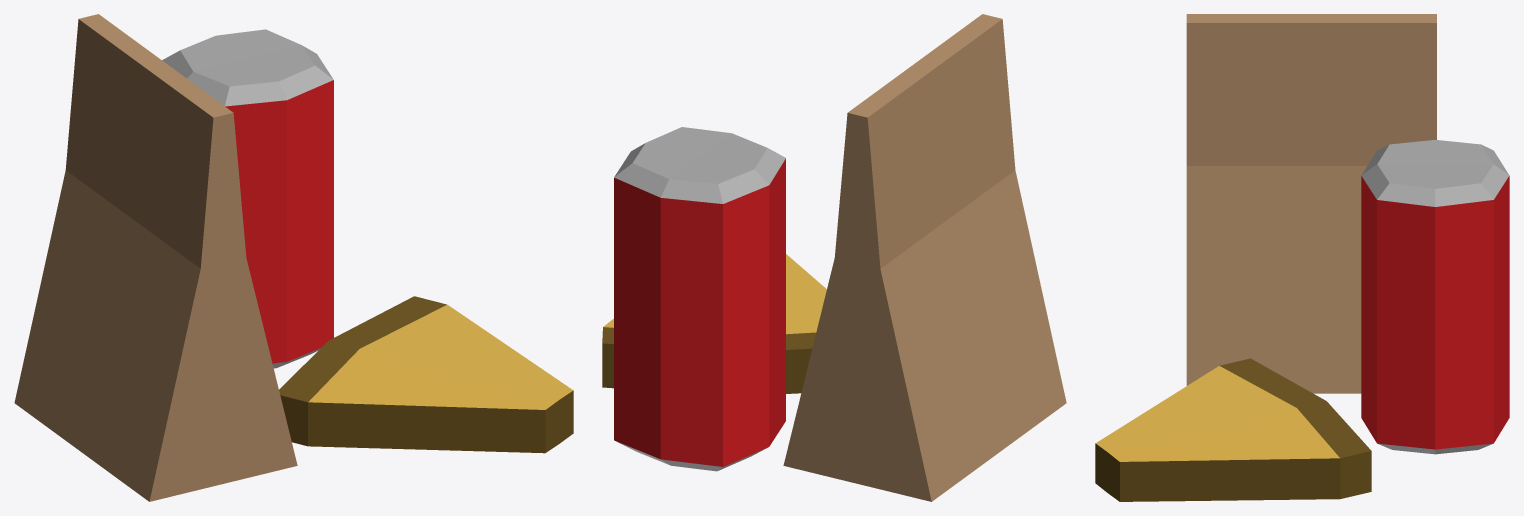
Rendered from Trash.fbx.
3 views of the same model, side by side, from view 1: azimuth 30°, elevation 25°; view 2: azimuth 150°, elevation 25°; view 3: azimuth 270°, elevation 25° (orthographic). The views are drawn at different scales.
Visible parts, largest first — view 1: Cube, Cube.002, Cube.001; view 2: Cube, Cube.001, Cube.002; view 3: Cube, Cube.001, Cube.002.
Part boxes in pixels (box(x1,y1,x2,y2)): Cube: box(14, 14, 297, 501); Cube.002: box(279, 296, 573, 453); Cube.001: box(162, 29, 333, 368); Cube: box(783, 14, 1066, 501); Cube.001: box(614, 127, 785, 471); Cube.002: box(602, 254, 826, 393); Cube: box(1186, 14, 1436, 393); Cube.001: box(1361, 140, 1509, 454); Cube.002: box(1095, 358, 1371, 501).
Size of the model in its own units: 332 by 301 by 331.
